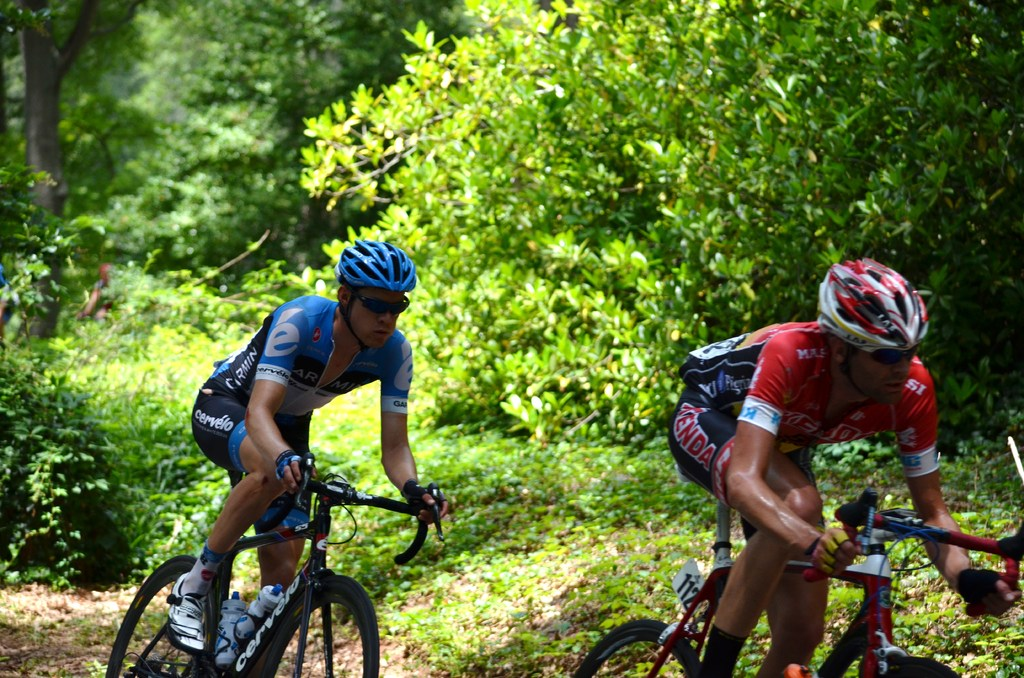Bike_toward: (92, 457, 438, 673)
